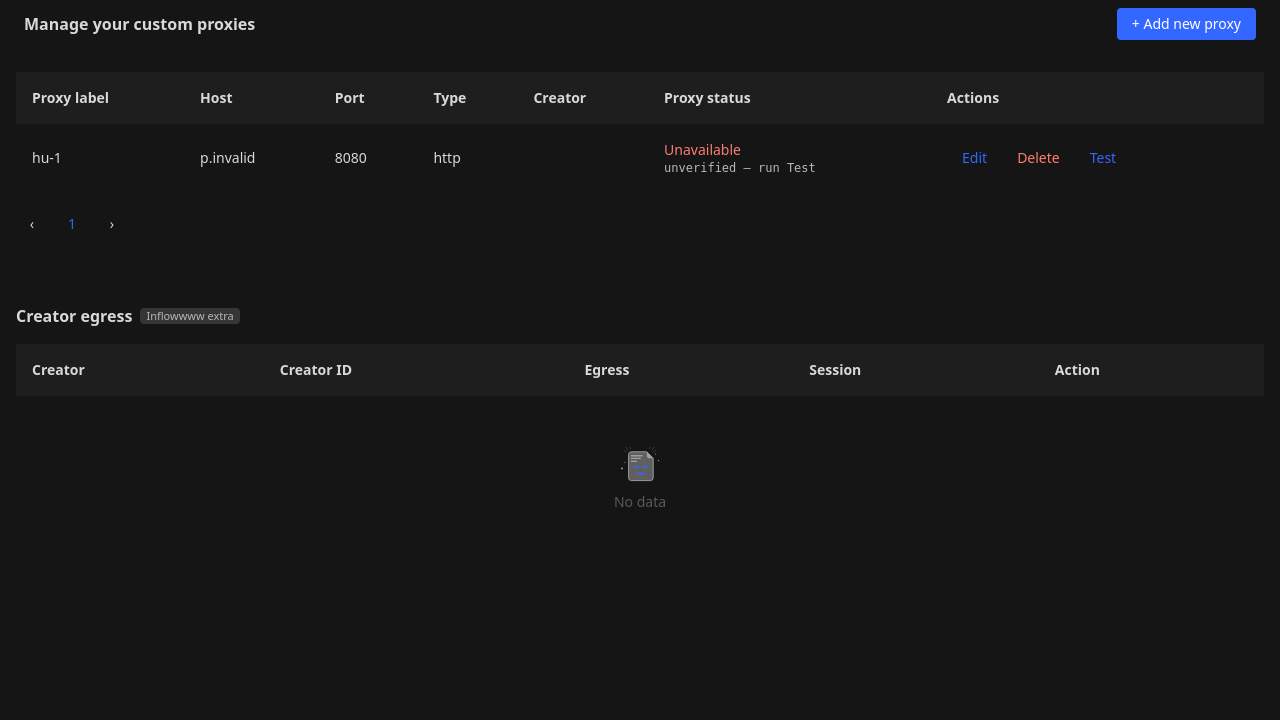
Scenario: ProxiesTable delete modal › is a modal-stack dialog: Escape closes it, deletes nothing, and focus returns to the row's Delete
The width and height of the screenshot is (1280, 720).
Click the button "Delete".
click(1038, 158)  # box [1002,142,1075,174]
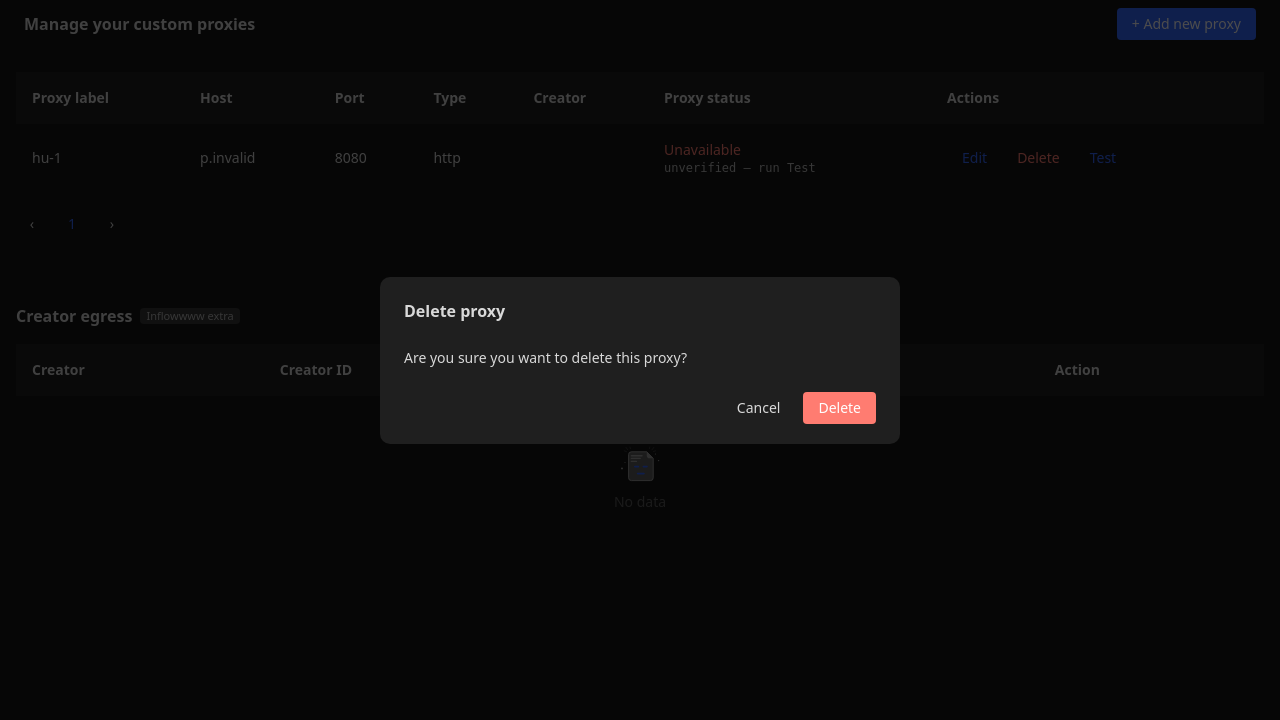
Press Tab
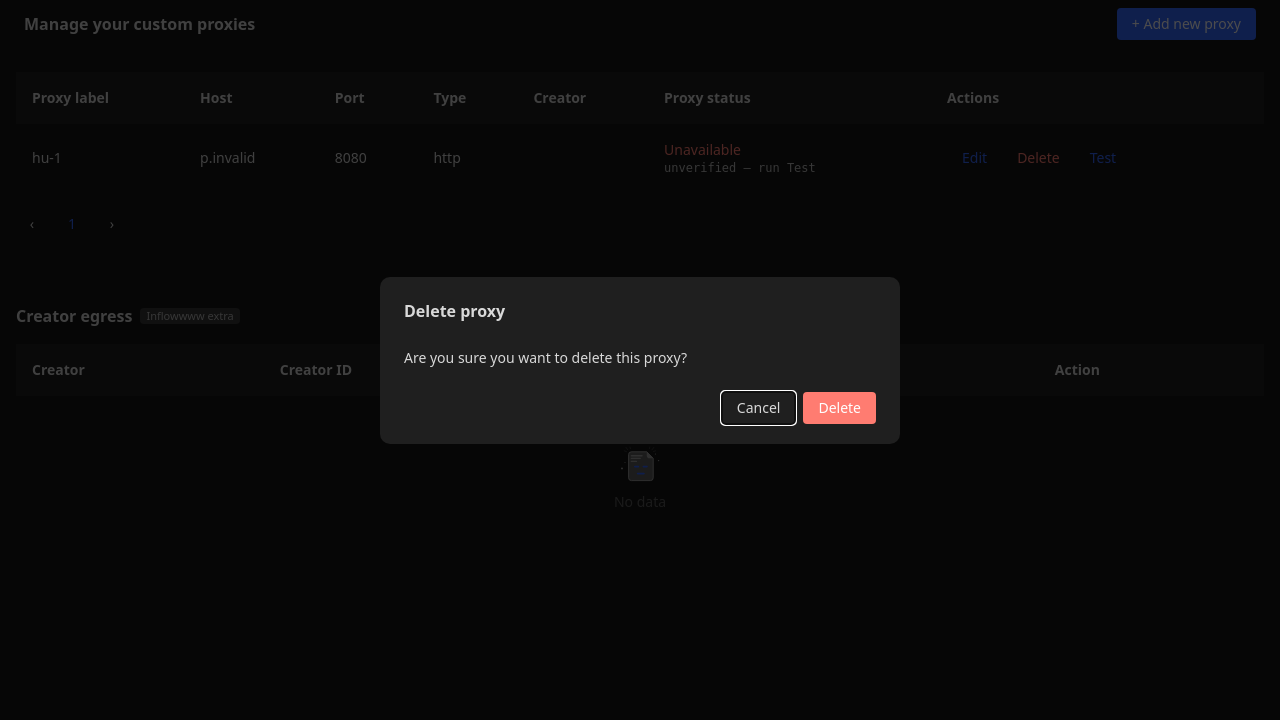
Press Tab
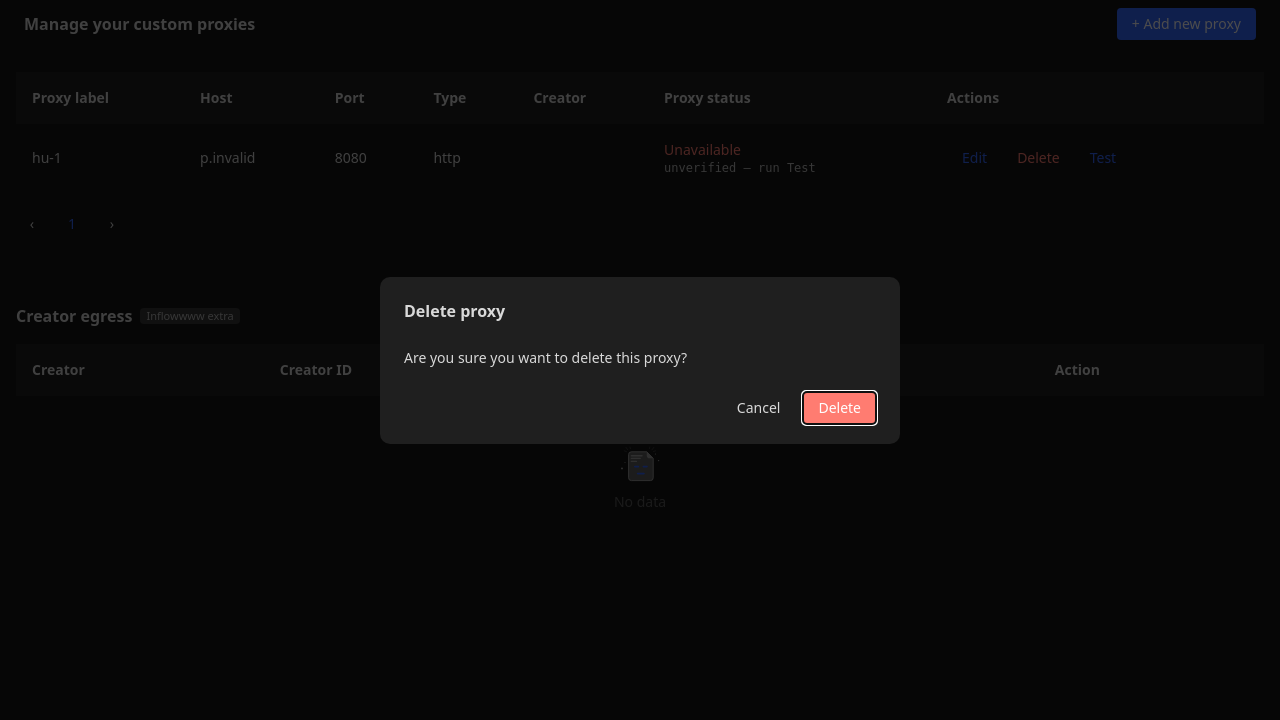
Press Tab
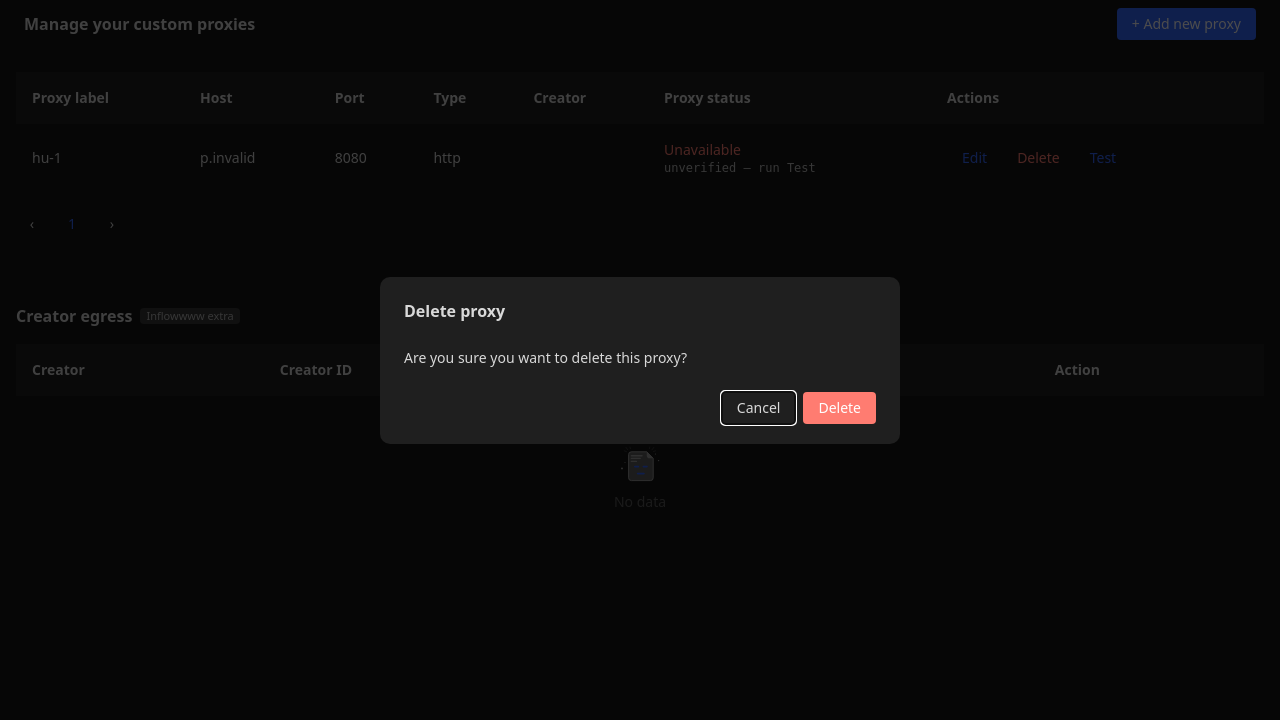
Press Tab
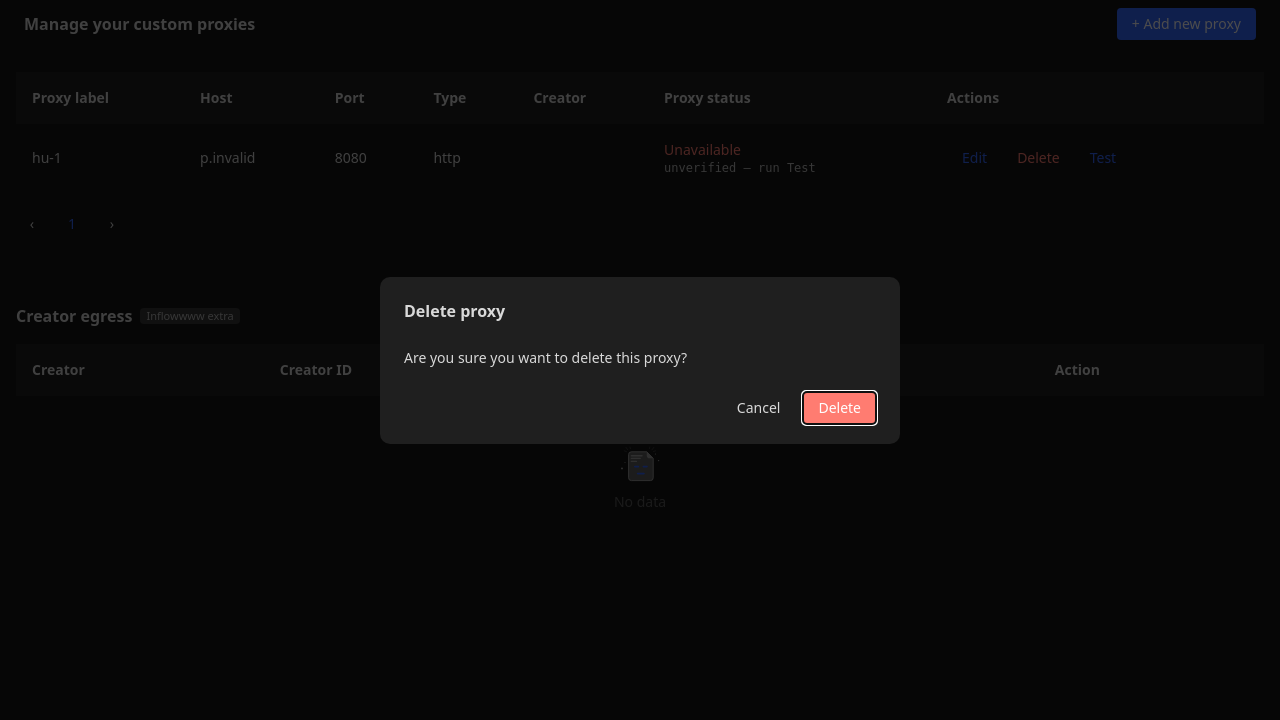
Press Escape
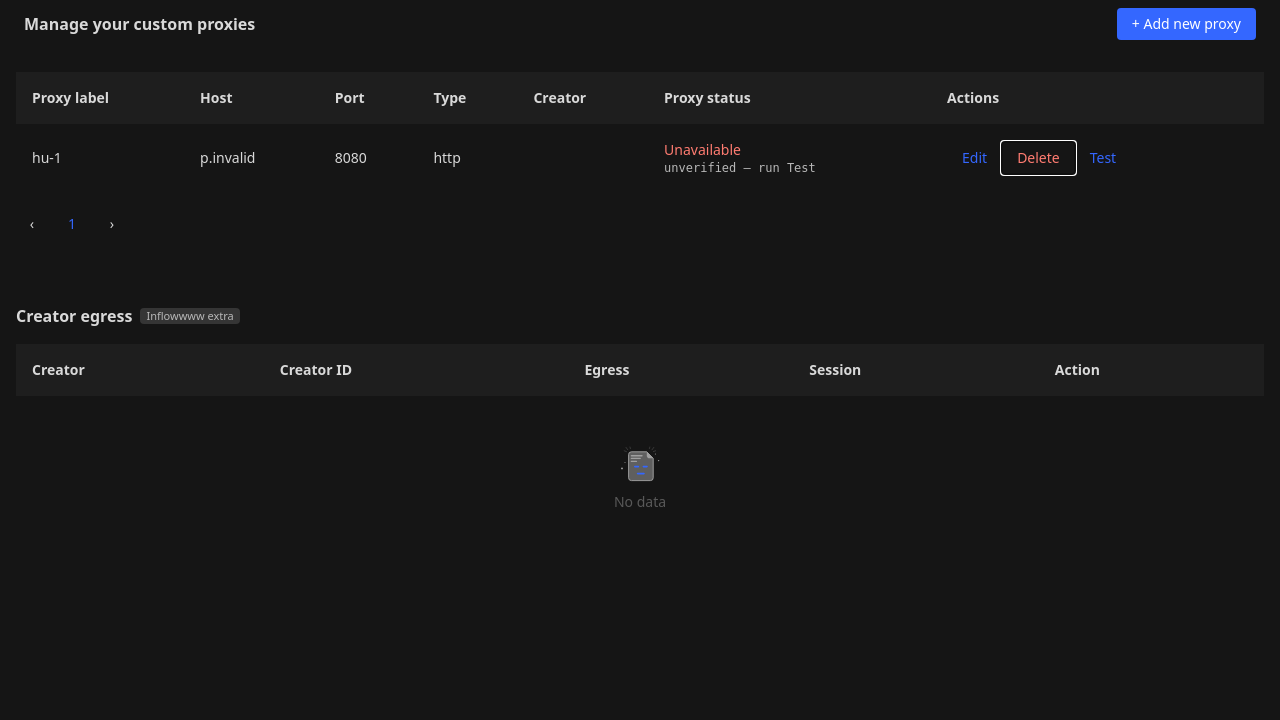
Now the dialog is gone
